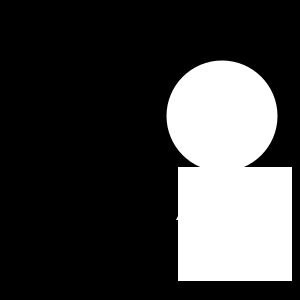circle: (178, 167, 292, 281)
rectangle: (166, 60, 278, 172)
triangle: (176, 205, 191, 220), (273, 229, 285, 241)
